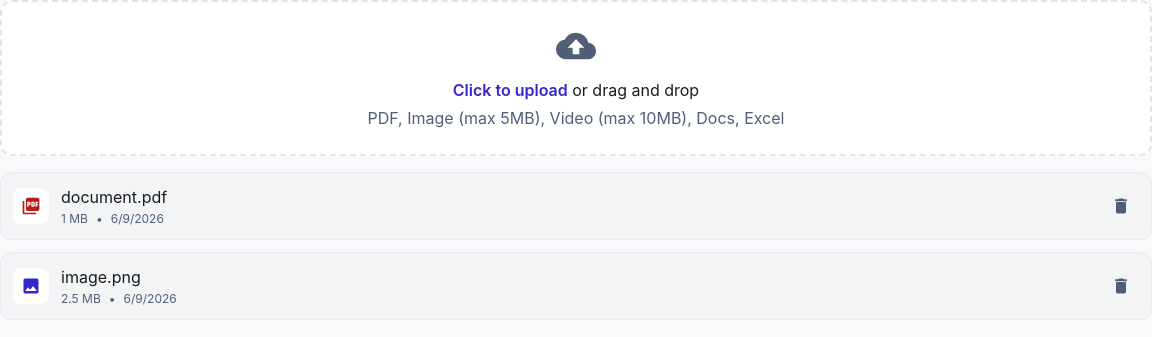
Test: AttachmentsSection Component › handles attachment deletion
The image size is (1152, 337).
Expected: the link "document.pdf" is shown, [61,185,167,209]
Click the button titled "Delete attachment" in the row of "document.pdf". click: (1121, 206)
box: [1103,188,1139,224]
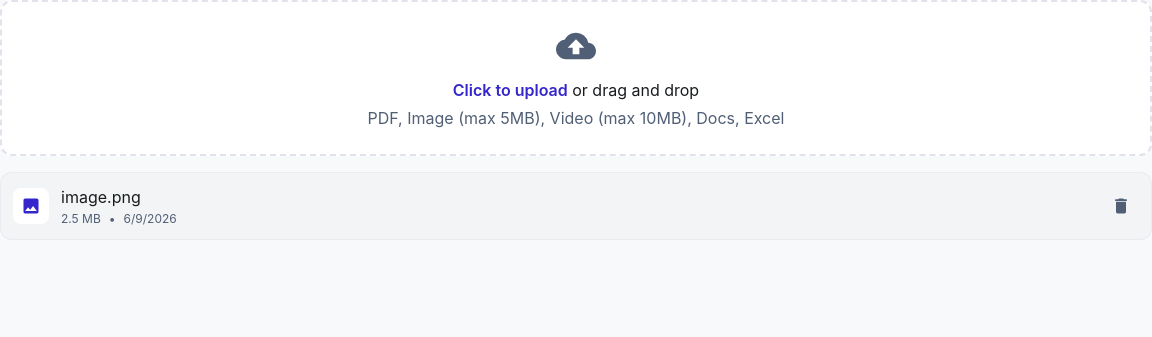
Expected: the link "document.pdf" is gone
